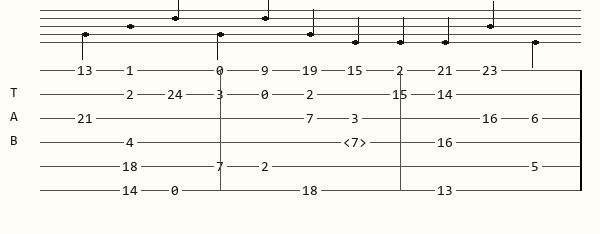0: (171, 184, 183, 197), (216, 64, 228, 77), (261, 88, 273, 101)
1: (126, 64, 138, 77)
13: (77, 64, 97, 77), (437, 184, 457, 197)
14: (122, 184, 142, 197), (437, 88, 457, 101)
15: (347, 64, 367, 77), (392, 88, 412, 101)
16: (437, 136, 457, 149), (482, 112, 502, 125)
18: (122, 160, 142, 173), (302, 184, 322, 197)
19: (302, 64, 322, 77)
2: (126, 88, 138, 101), (261, 160, 273, 173), (306, 88, 318, 101), (396, 64, 408, 77)
21: (77, 112, 97, 125), (437, 64, 457, 77)
23: (482, 64, 502, 77)
24: (167, 88, 187, 101)
3: (216, 88, 228, 101), (351, 112, 363, 125)
4: (126, 136, 138, 149)
5: (531, 160, 543, 173)
6: (531, 112, 543, 125)
7: (216, 160, 228, 173), (306, 112, 318, 125)
9: (261, 64, 273, 77)
harmonic: (343, 136, 371, 149)
